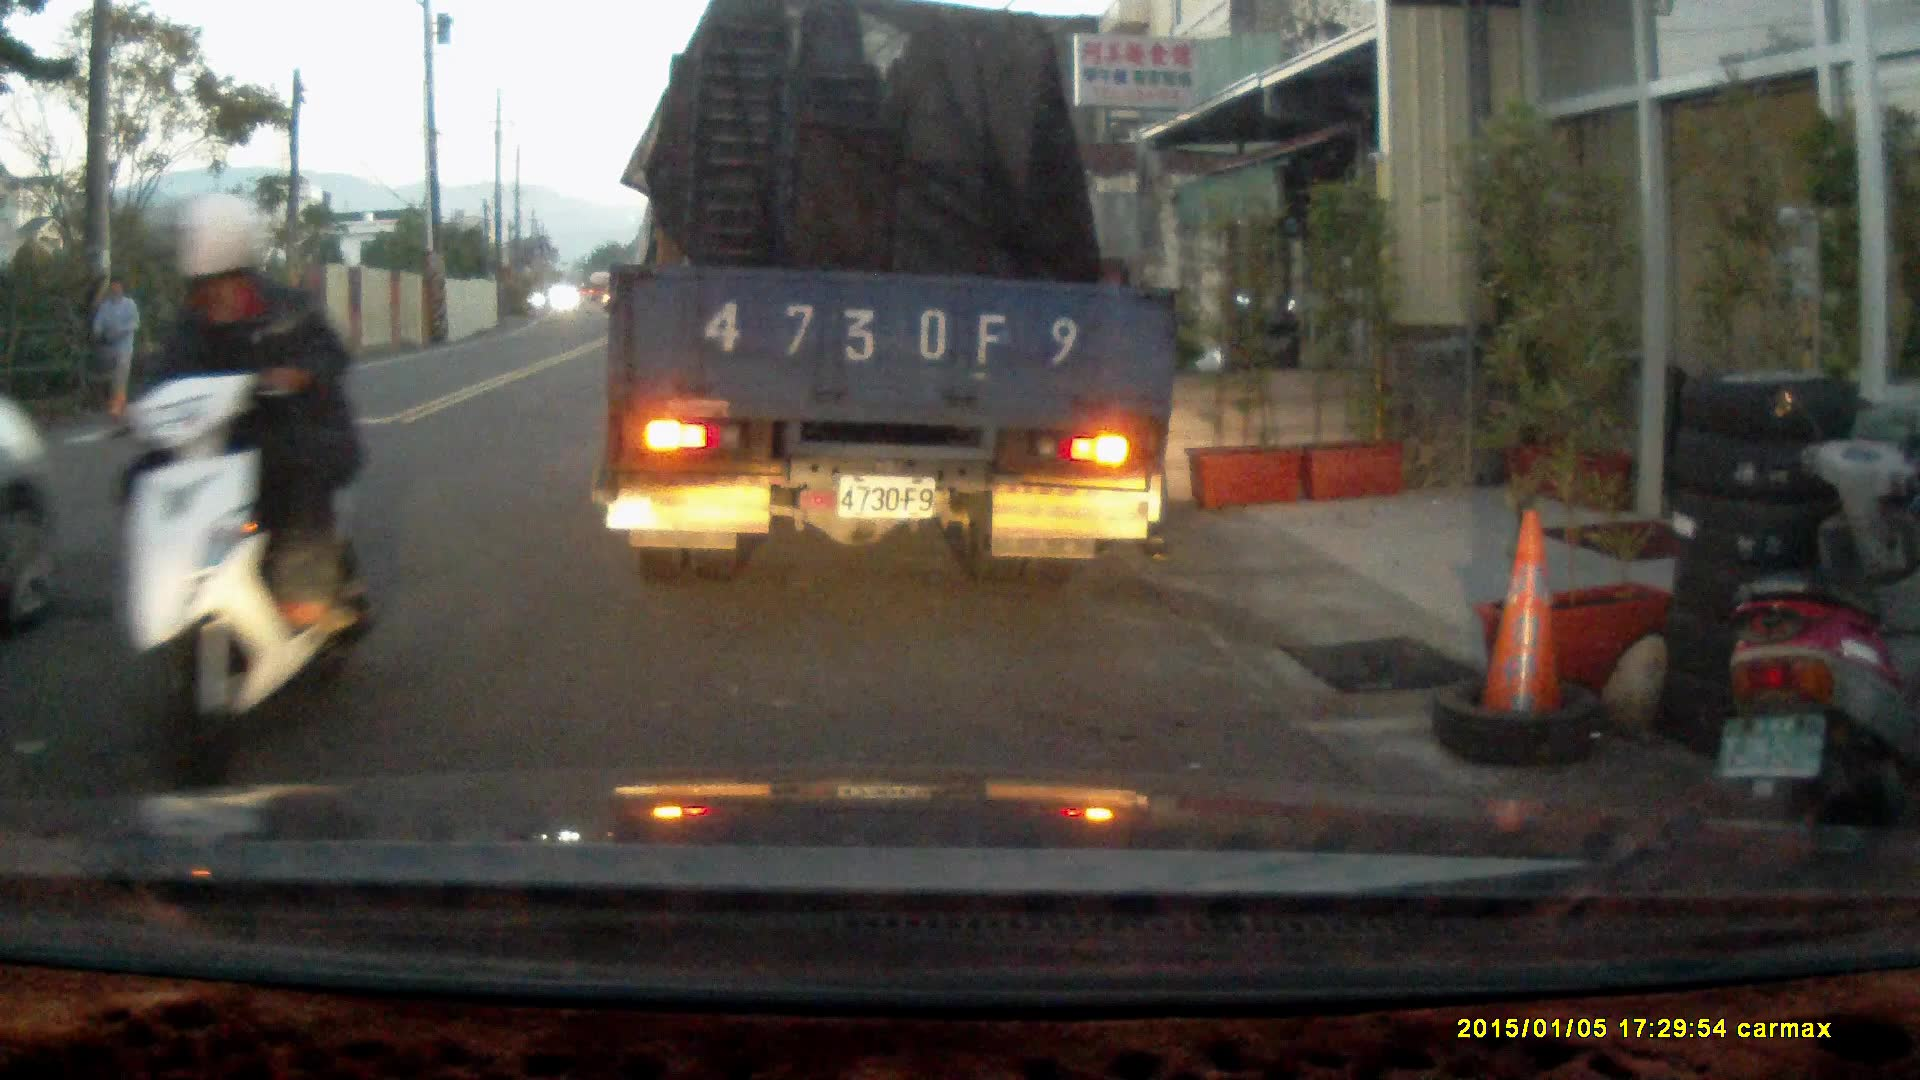pedestrian: (90, 271, 145, 416)
rider: (75, 190, 367, 787)
vehicle: (600, 23, 1186, 572), (1, 393, 78, 636)
